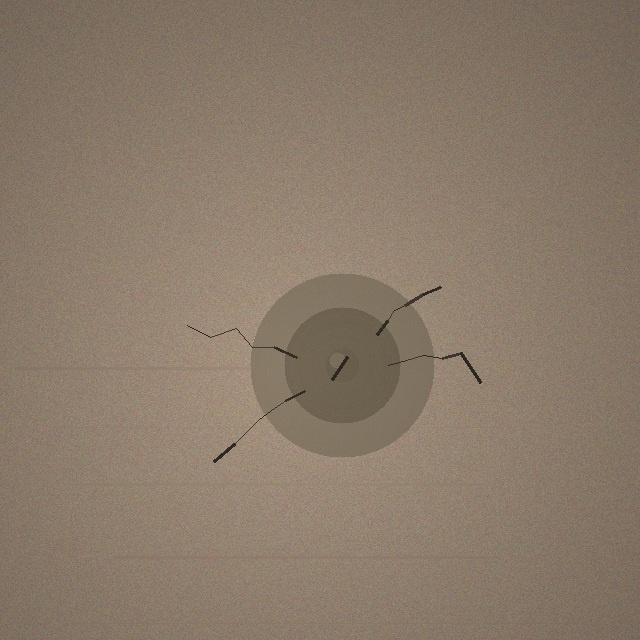crack: (250, 273, 434, 457)
